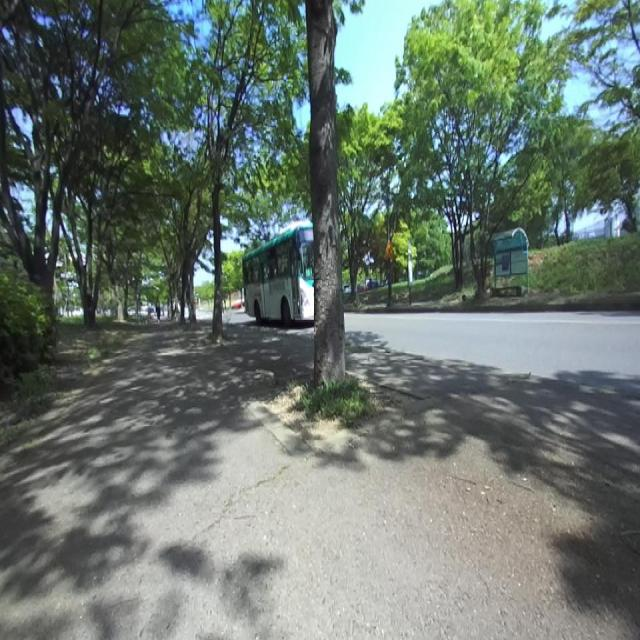sidewalk: (0, 324, 640, 639)
